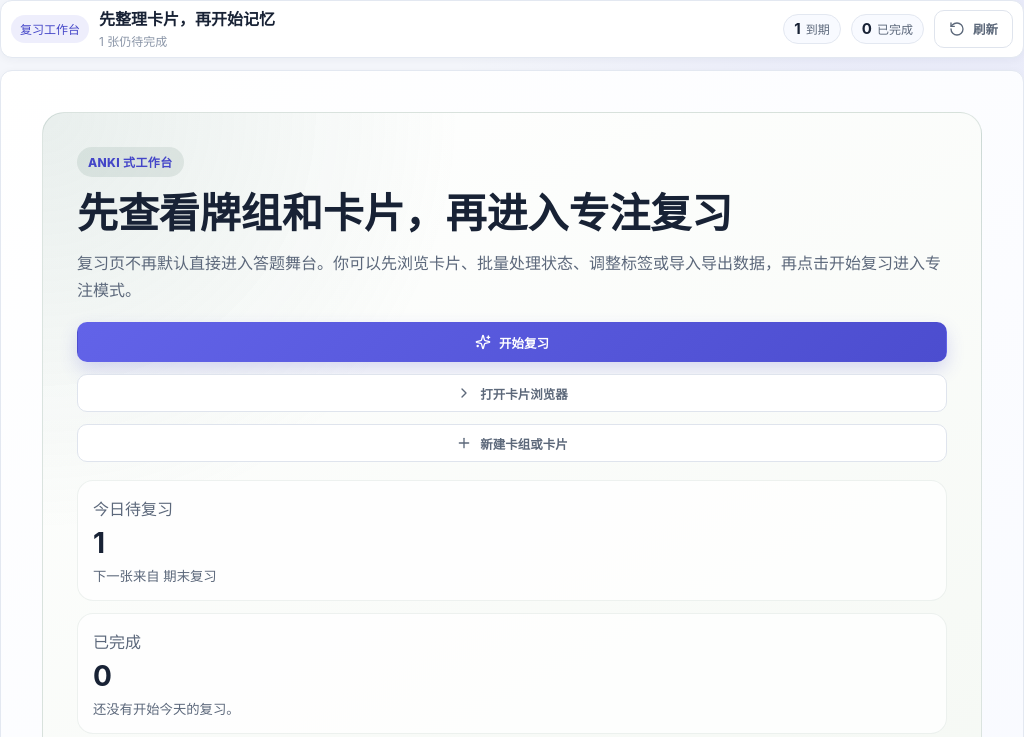
ReviewWorkspacePage › starts review only after clicking start and then writes back a rating
Click the button "开始复习": {"x": 512, "y": 342} x1=77 y1=322 x2=947 y2=362
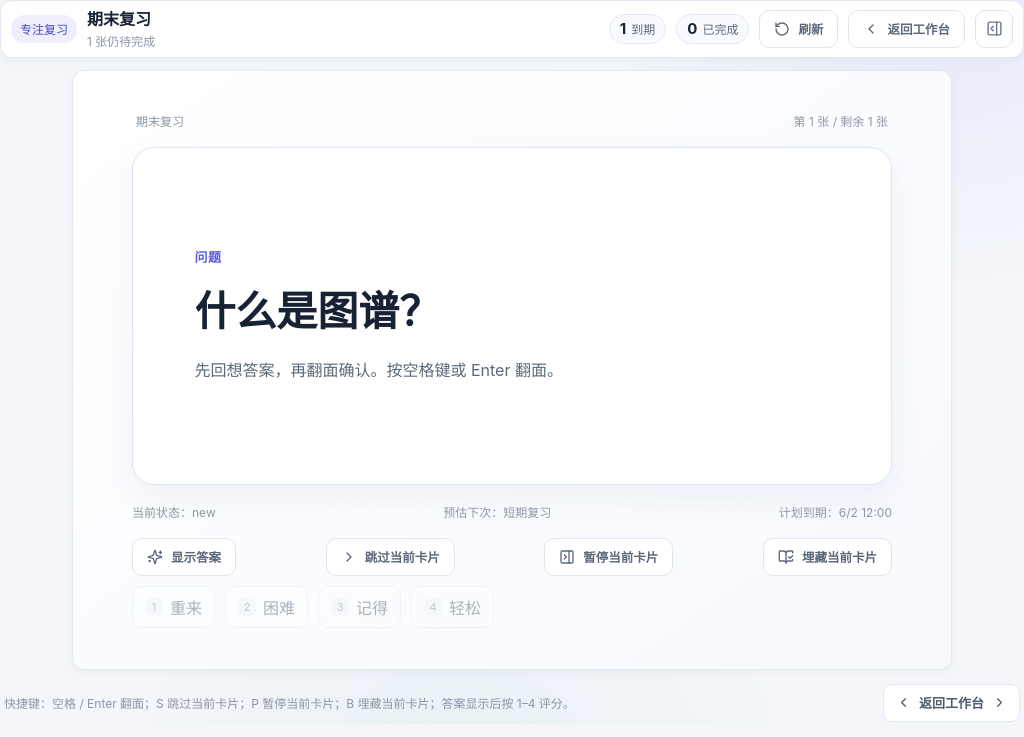
Expected: the text "1 到期" is shown, x1=609 y1=14 x2=666 y2=44
Expected: the text "什么是图谱？" is shown, x1=194 y1=286 x2=440 y2=336
Click the button "显示答案": {"x": 184, "y": 557} x1=132 y1=538 x2=236 y2=576
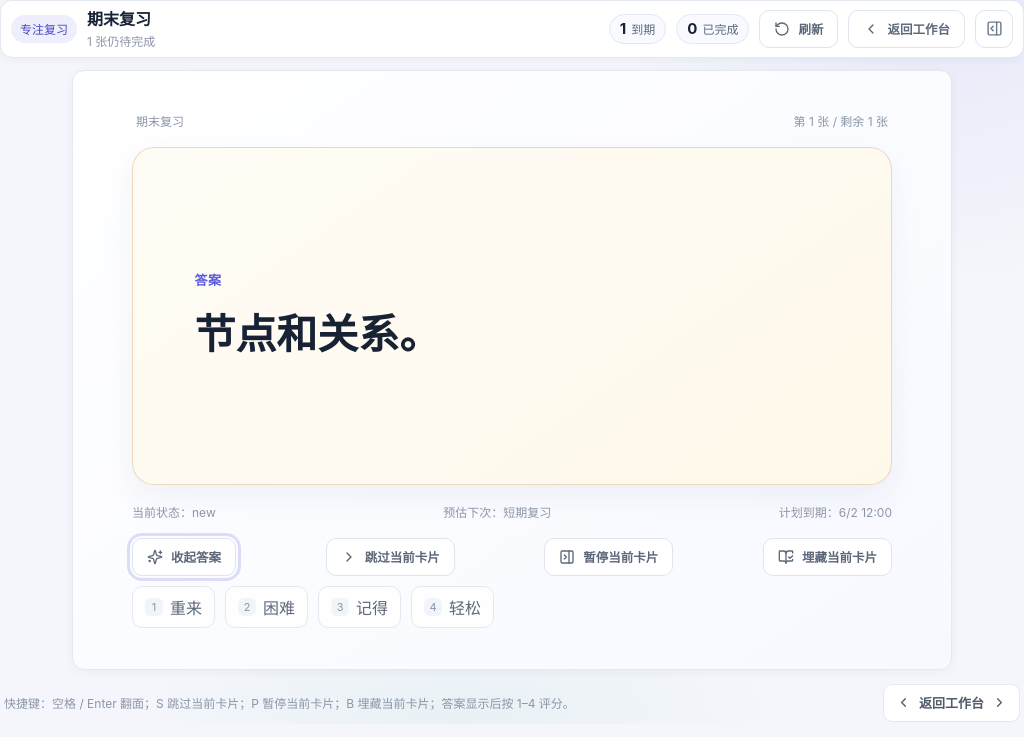
Expected: the text "节点和关系。" is shown, x1=194 y1=309 x2=440 y2=359
Click the button with aria-label "Good 记得": {"x": 360, "y": 607} x1=318 y1=586 x2=401 y2=628
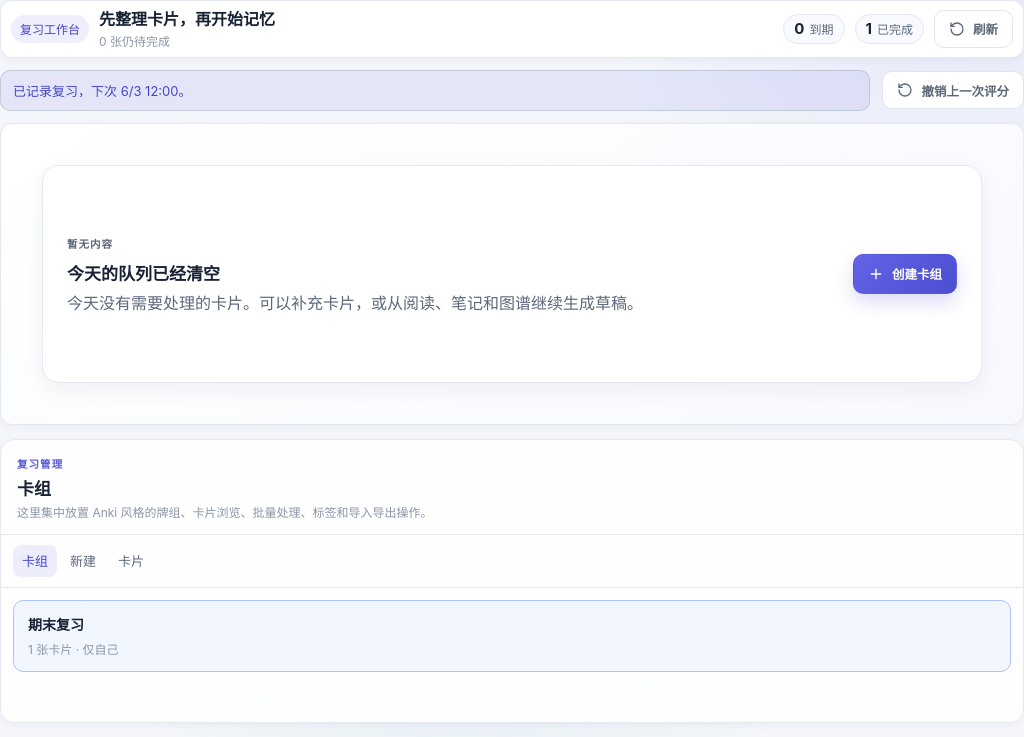
Expected: the text "已记录复习，下次 6/3 12:00。" is shown, x1=0 y1=70 x2=870 y2=111
Expected: the heading "今天的队列已经清空" is shown, x1=67 y1=264 x2=220 y2=284
